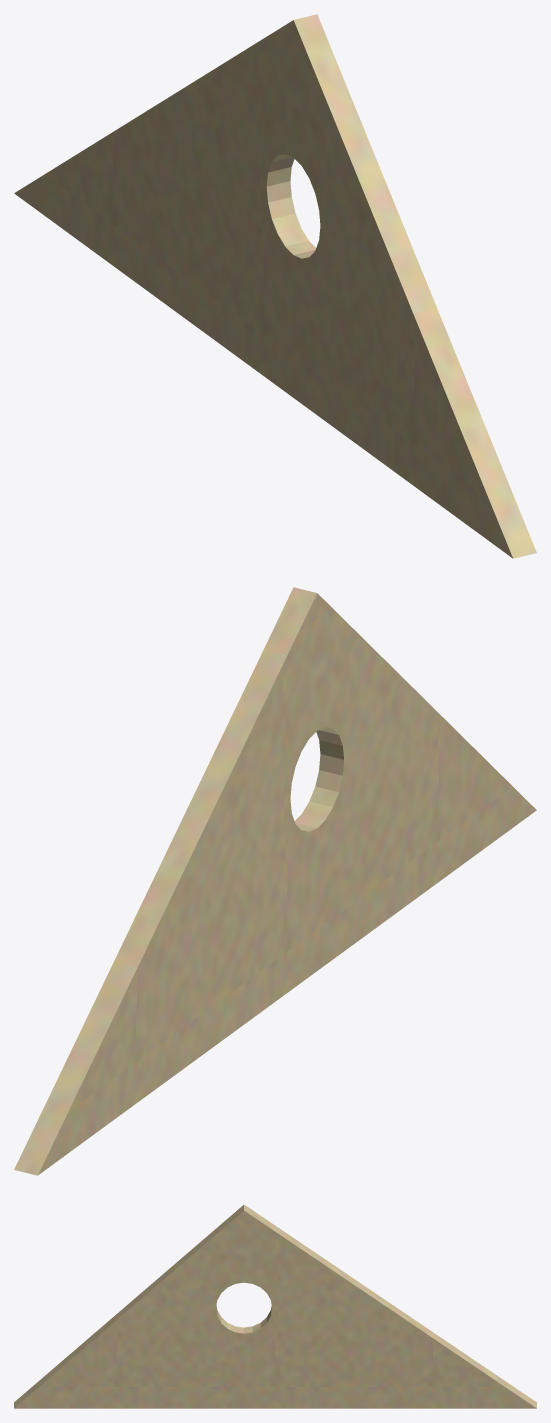
The model's file is SM_HH_V2_Gable_Front.fbx.
3 views of the same model, one above another, from view 1: azimuth 30°, elevation 25°; view 2: azimuth 150°, elevation 25°; view 3: azimuth 270°, elevation 25° (orthographic). The views are drawn at different scales.
Visible parts, largest first — view 1: HH_V2_Gable_Front; view 2: HH_V2_Gable_Front; view 3: HH_V2_Gable_Front.
Part boxes in pixels (x1,y1,x2,y2): HH_V2_Gable_Front: (14,14,536,558); HH_V2_Gable_Front: (14,587,536,1175); HH_V2_Gable_Front: (14,1204,536,1408).
Bounding box in the file's own units: 8.74 × 0.24 × 3.65.
